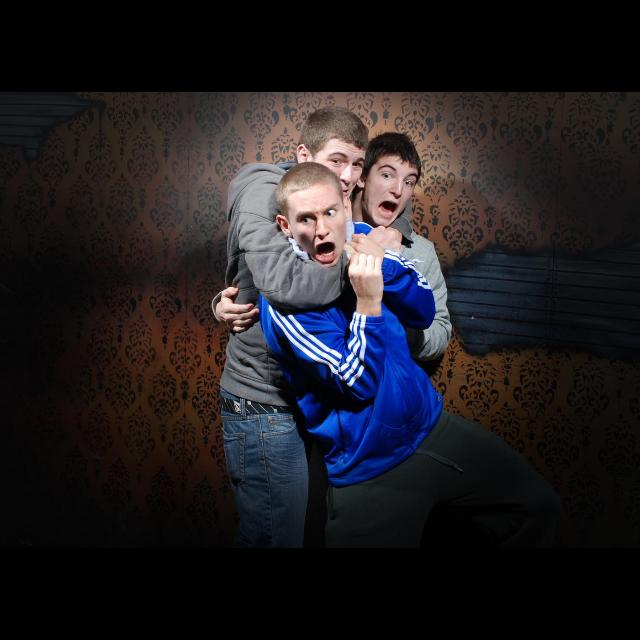head: (274, 162, 354, 268), (295, 105, 371, 209), (353, 133, 421, 230)
